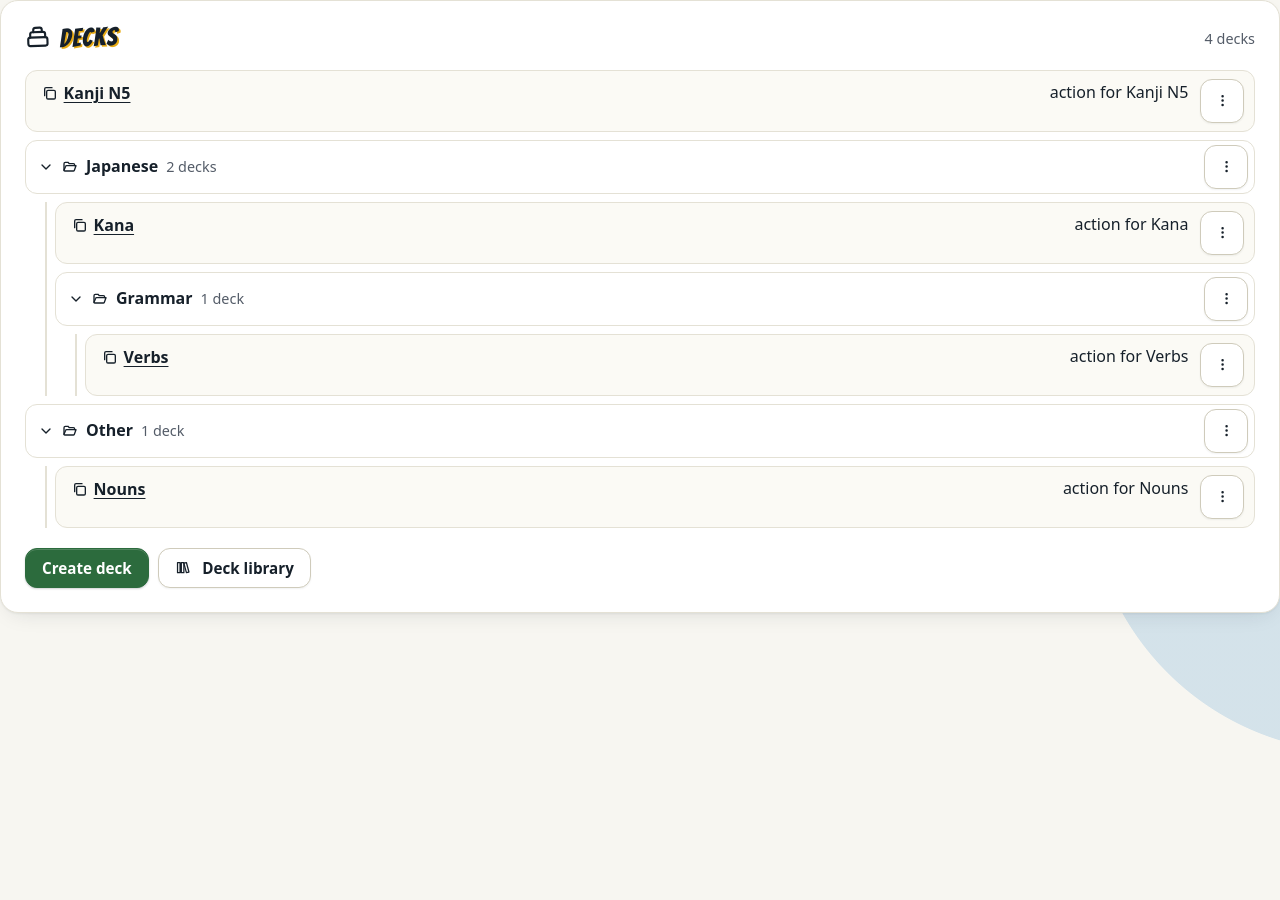
Test: DeckListScreen › folds a group shut and open, out of the tab order while shut
Step 1. Click the button "Japanese 2 decks" → x=122, y=166, box [32,145,1196,189]
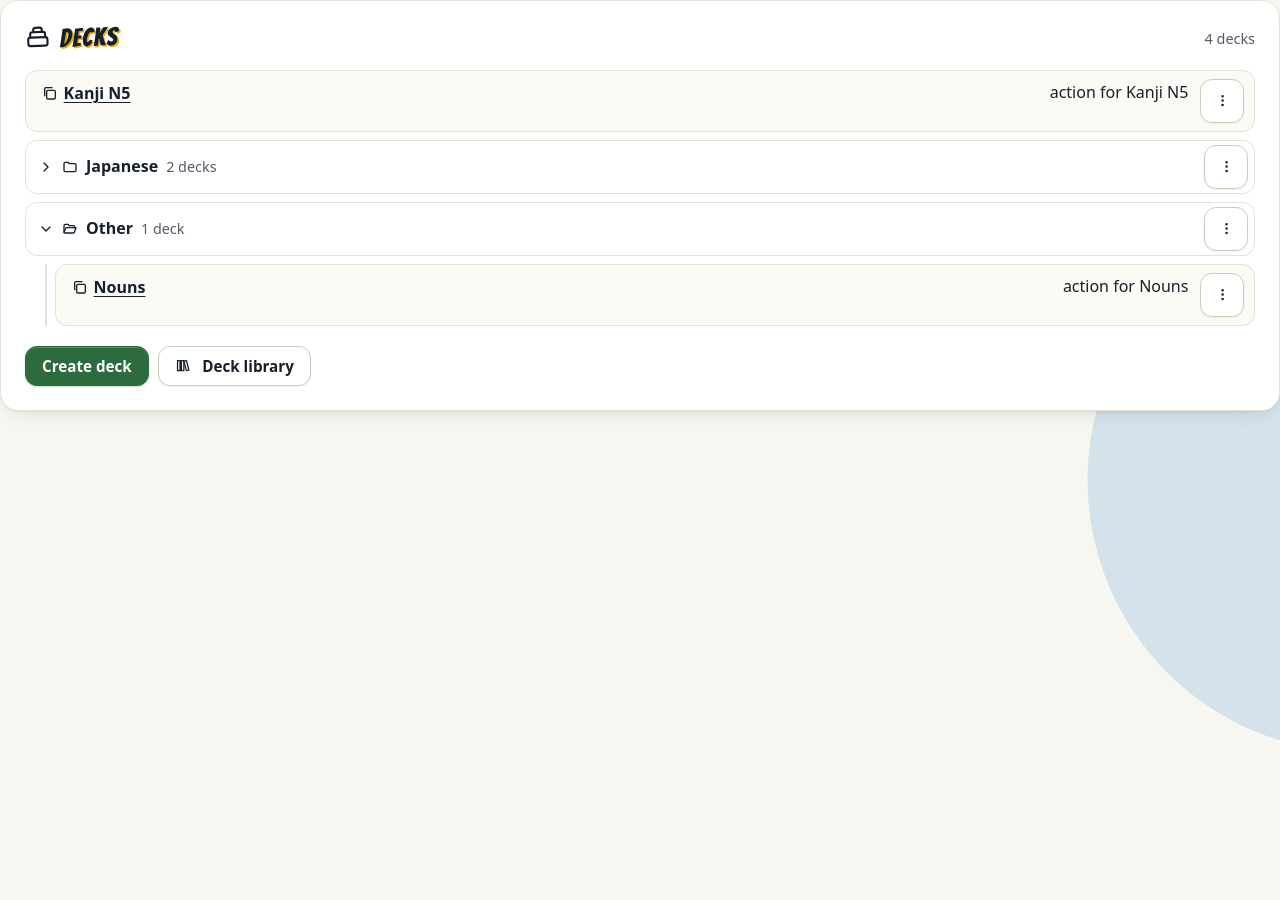
Expected: the button "Japanese 2 decks" is collapsed
Step 2. Click the button "Japanese 2 decks" → x=122, y=166, box [32,145,1196,189]
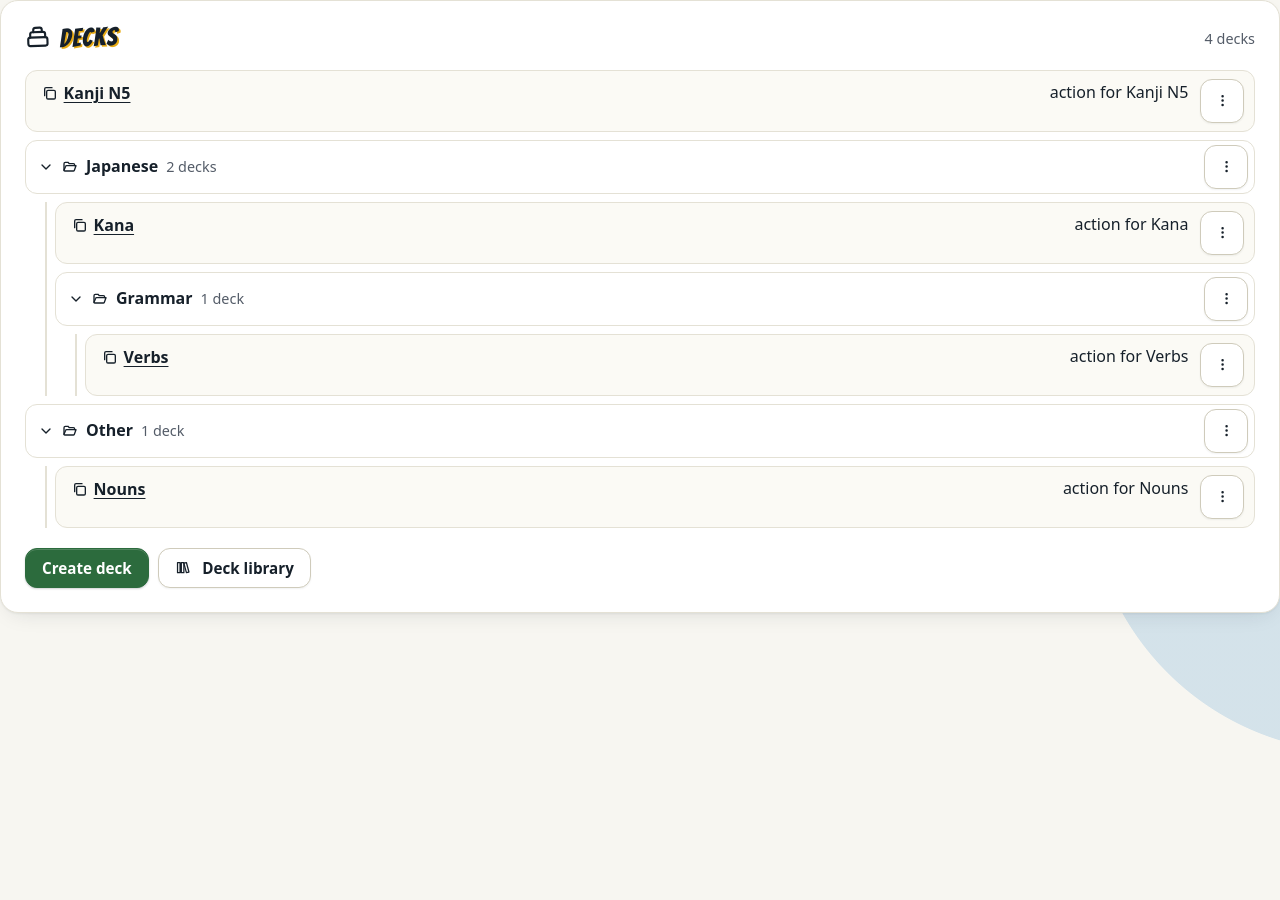
Expected: the button "Japanese 2 decks" is expanded, [32,145,1196,189]
